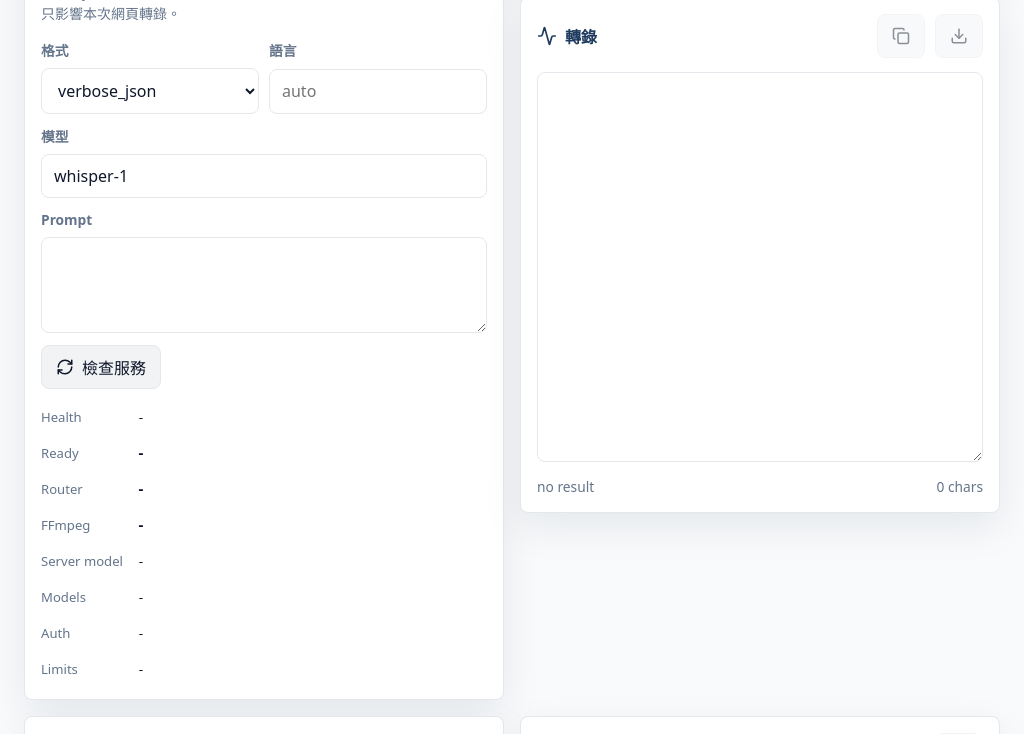
App › keeps partial readiness diagnostics when model listing fails
This screenshot has width=1024, height=734.
(page scrolled)
Click the button "檢查服務" at coordinates (101, 367), box [41,345,161,389]
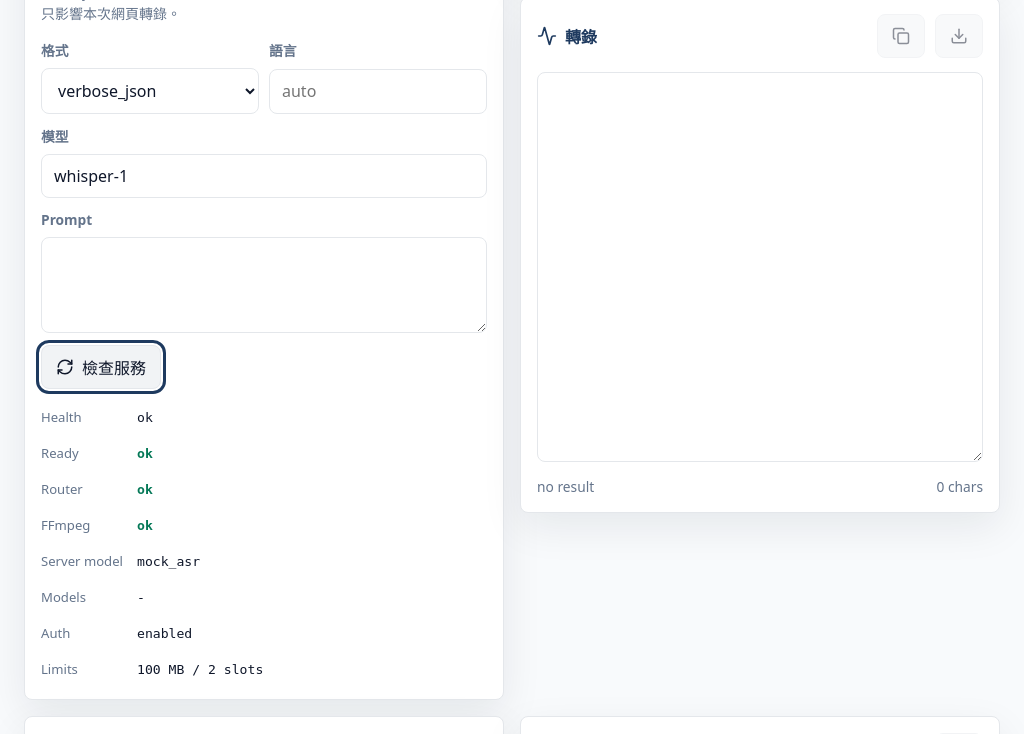
Now the text "100 MB / 2 slots" is shown, box [137,662,263,677]
Now the text "enabled" is shown, box [137,626,192,641]
